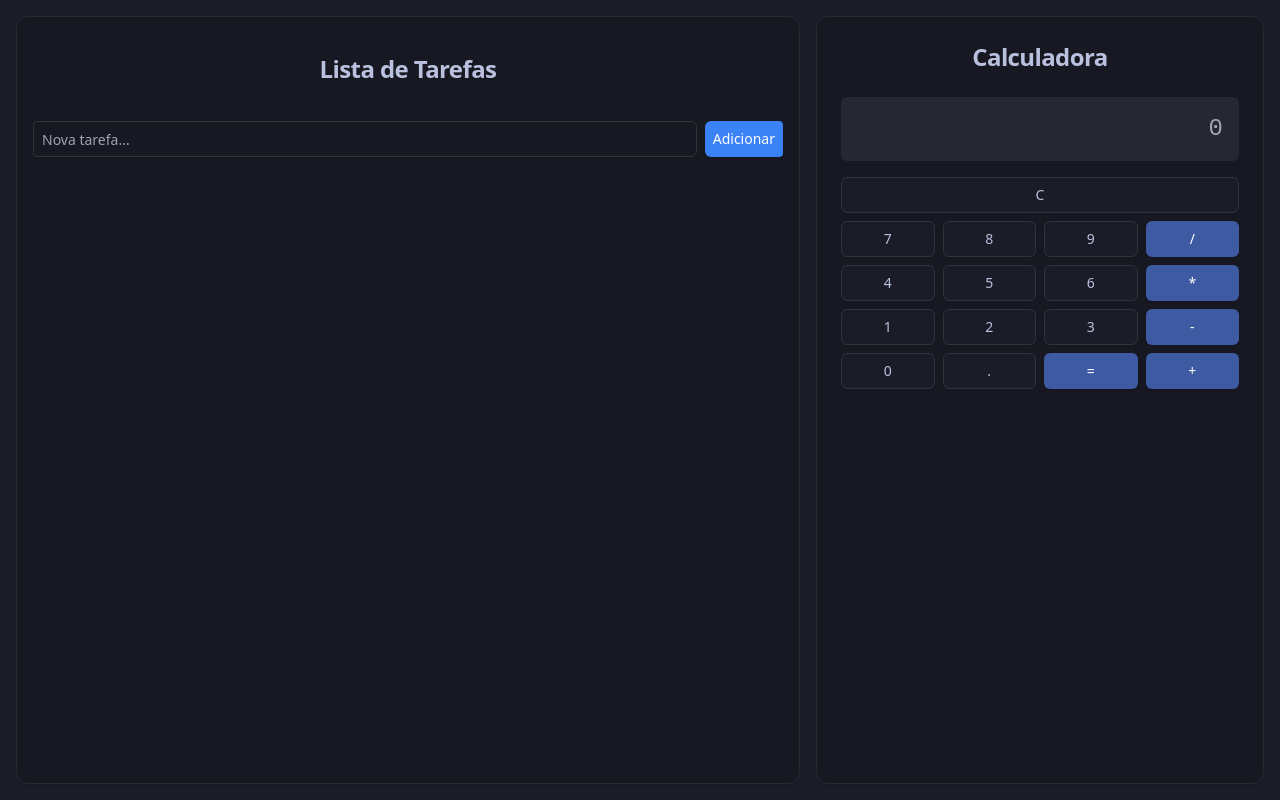
Scenario: TodoApp › deve remover uma tarefa
The image size is (1280, 800).
Type "Limpar a casa" into the field with test id "todo-input" at (365, 139), box [33, 121, 697, 157]
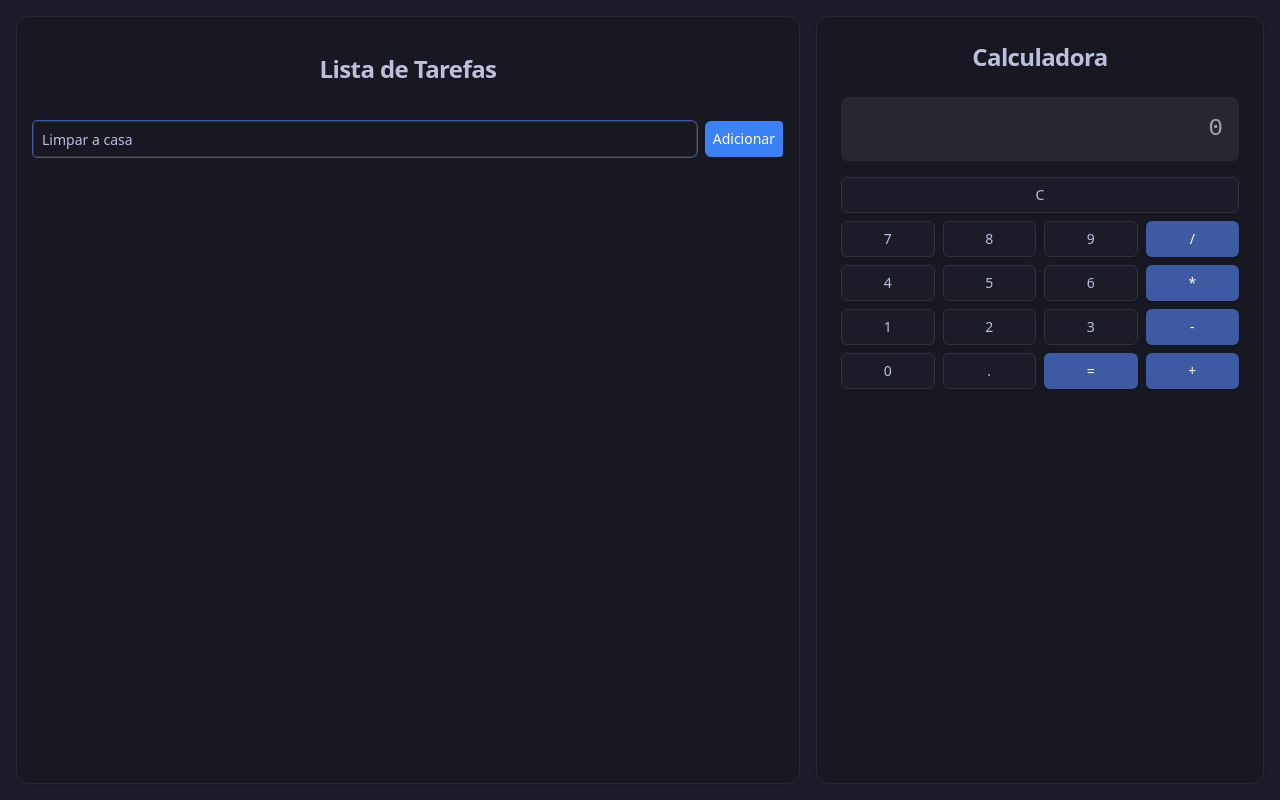
Click the button with test id "add-todo" at (744, 139), box [705, 121, 783, 157]
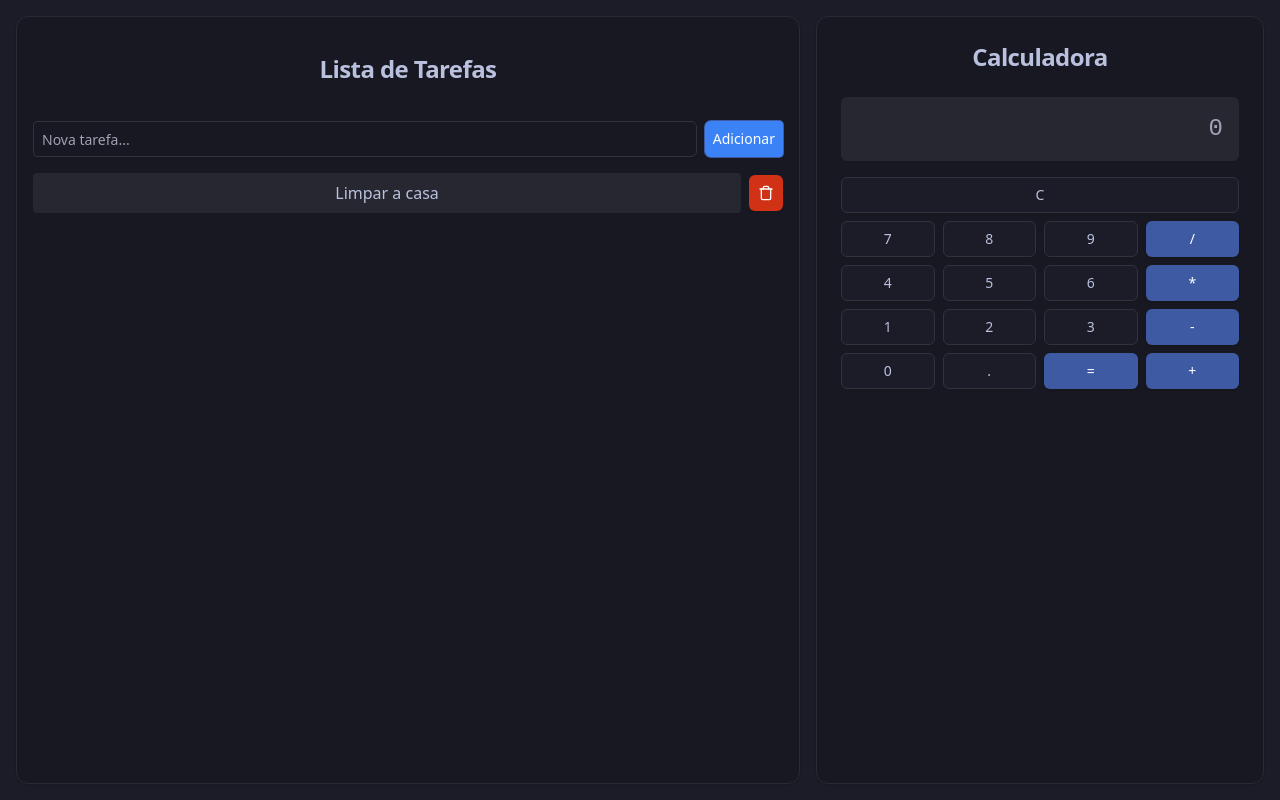
Click the button with test id "remove-todo" at (766, 193), box [749, 175, 783, 211]
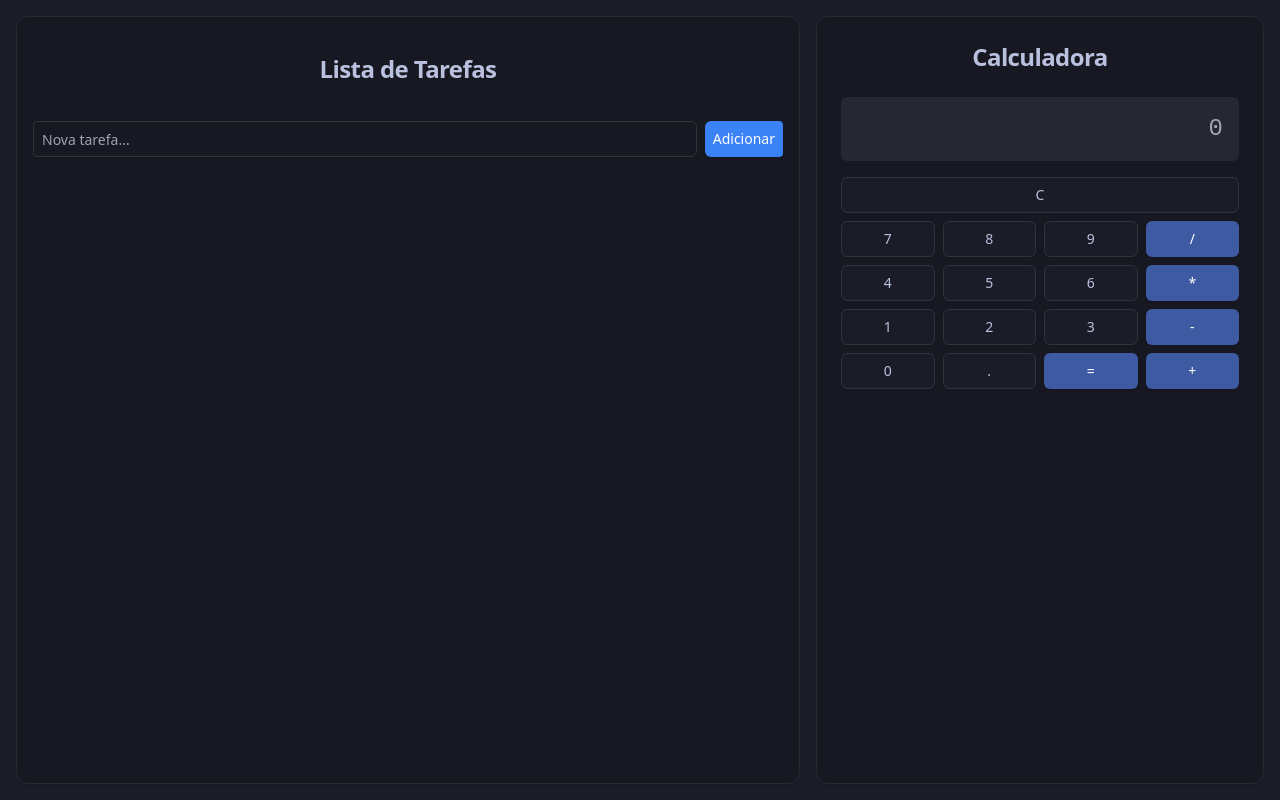
Now the text with test id "todo-item" is gone
